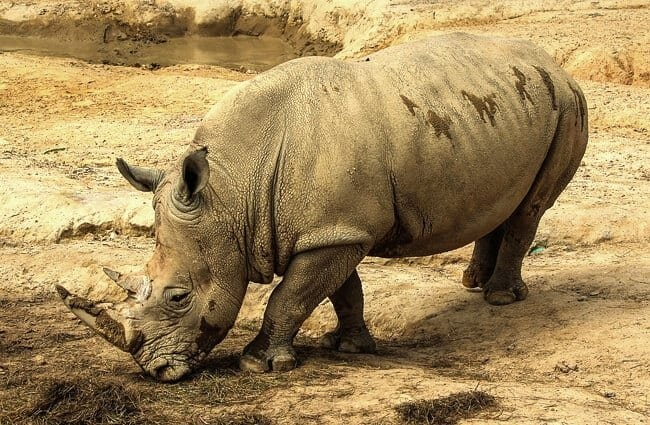rhino: (53, 30, 598, 388)
